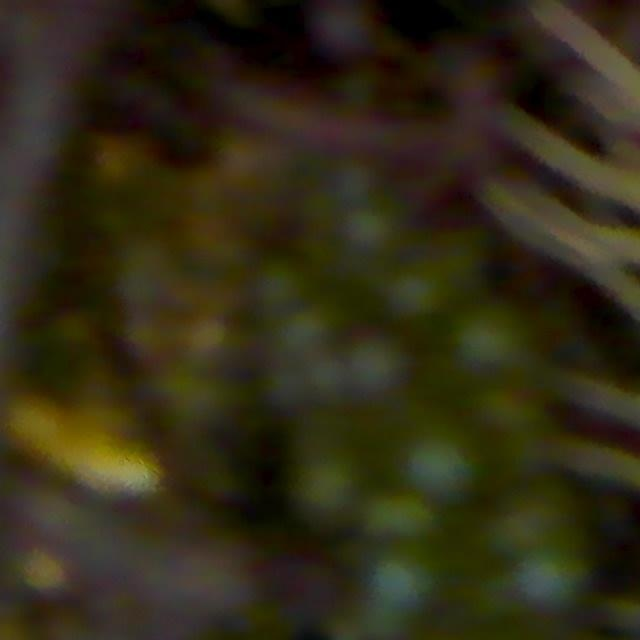SeaGrape: (340, 325, 416, 410), (490, 485, 575, 560), (473, 385, 550, 459), (291, 450, 363, 527), (513, 540, 581, 620), (455, 313, 528, 379), (367, 551, 434, 614), (273, 302, 338, 362), (408, 445, 479, 499), (380, 267, 448, 323), (362, 495, 438, 544), (312, 0, 372, 57), (339, 204, 399, 260), (251, 257, 308, 314)
